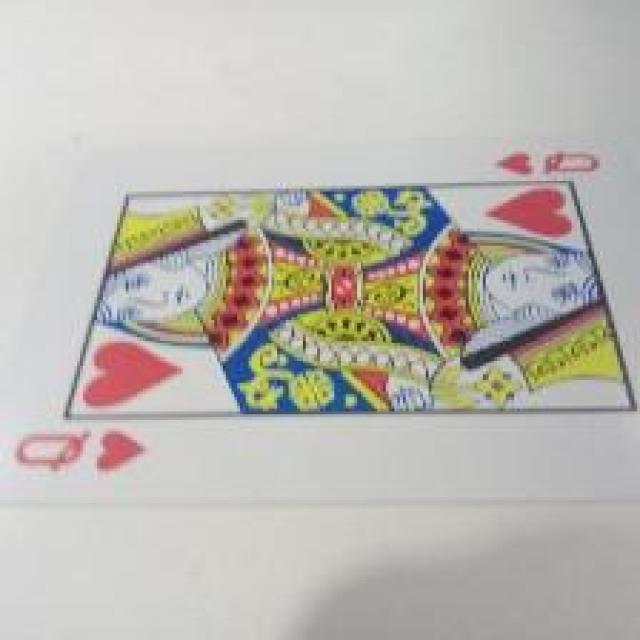Queen of hearts: (0, 127, 640, 507)
